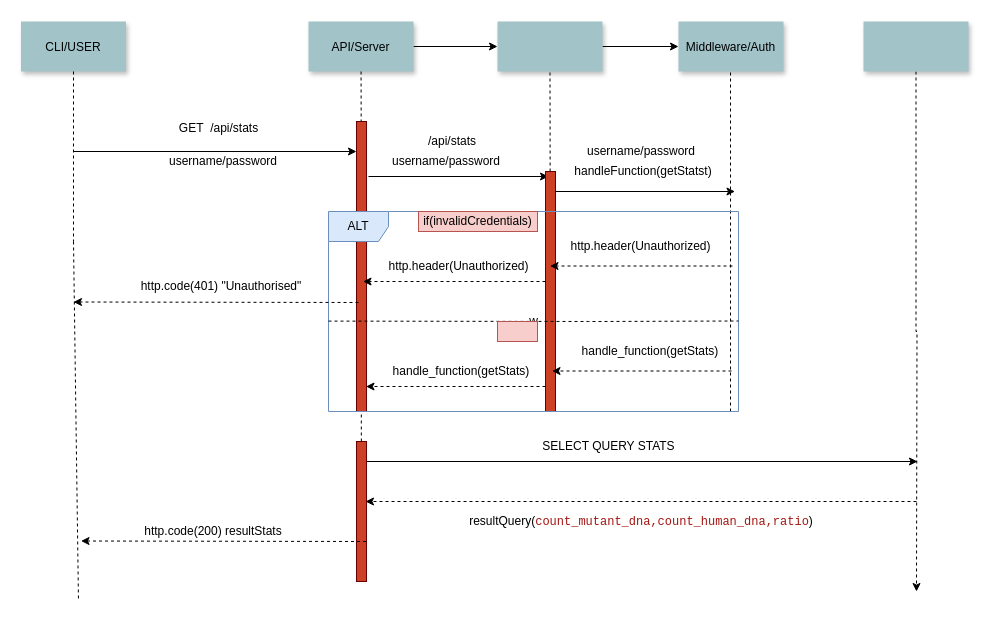
Image size: 992x620. Some labels were removed from this diagram. Here are the shapes that lost their labels. From the top down, the centre of each, then its label:
pixel 550 47: Router
pixel 916 47: DataBase Magneto
pixel 517 331: else
